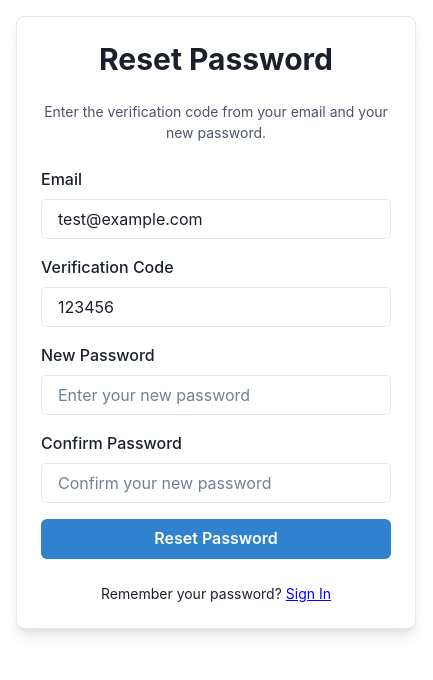
ResetPassword Component › validates passwords match
The width and height of the screenshot is (433, 680).
Type "password123" into the password field labelled "New Password" at (216, 395), box [41,375,391,415]
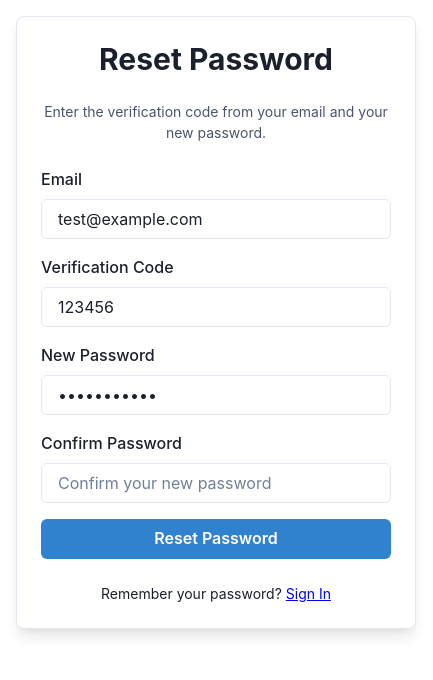
Type "different123" into the password field labelled "Confirm Password" at (216, 483), box [41,463,391,503]
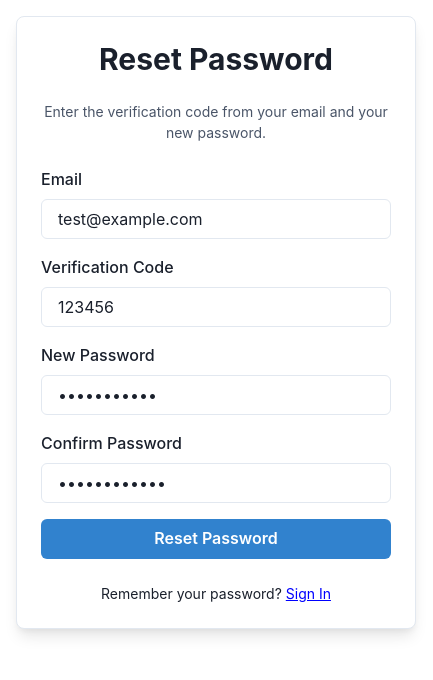
Click the button "Reset Password" at (216, 539), box [41,519,391,559]
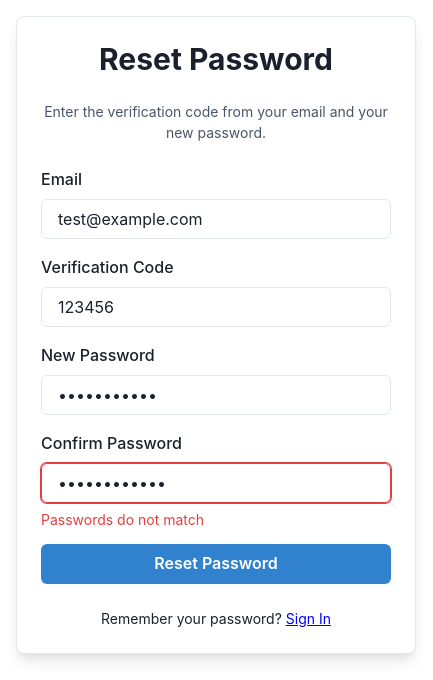
Expected: the text "Passwords do not match" is shown, [41,511,204,528]
